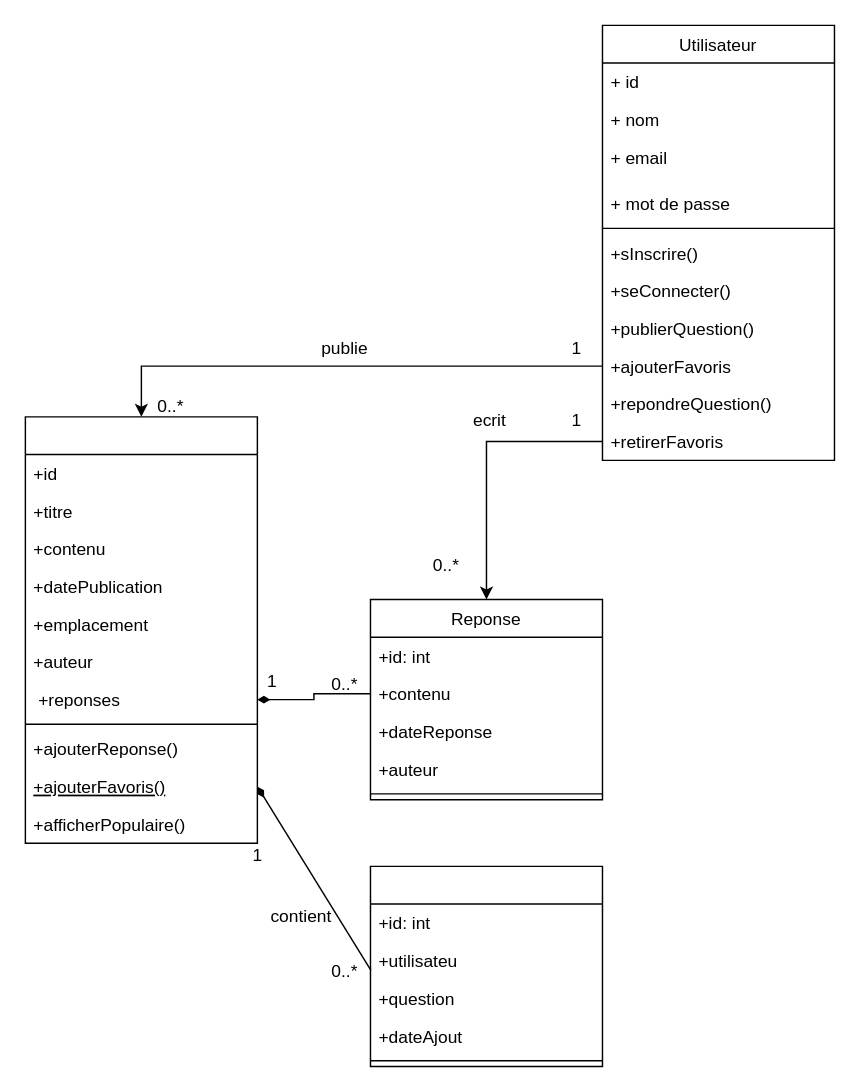
Some shapes in this 860 by 1092 pixel diagram are drawn without their labels. The box of each missing label's shape, as (x1, y1, x2, y2) in pixels:
Favoris: (369, 865, 602, 1066)
Question: (24, 415, 257, 843)
